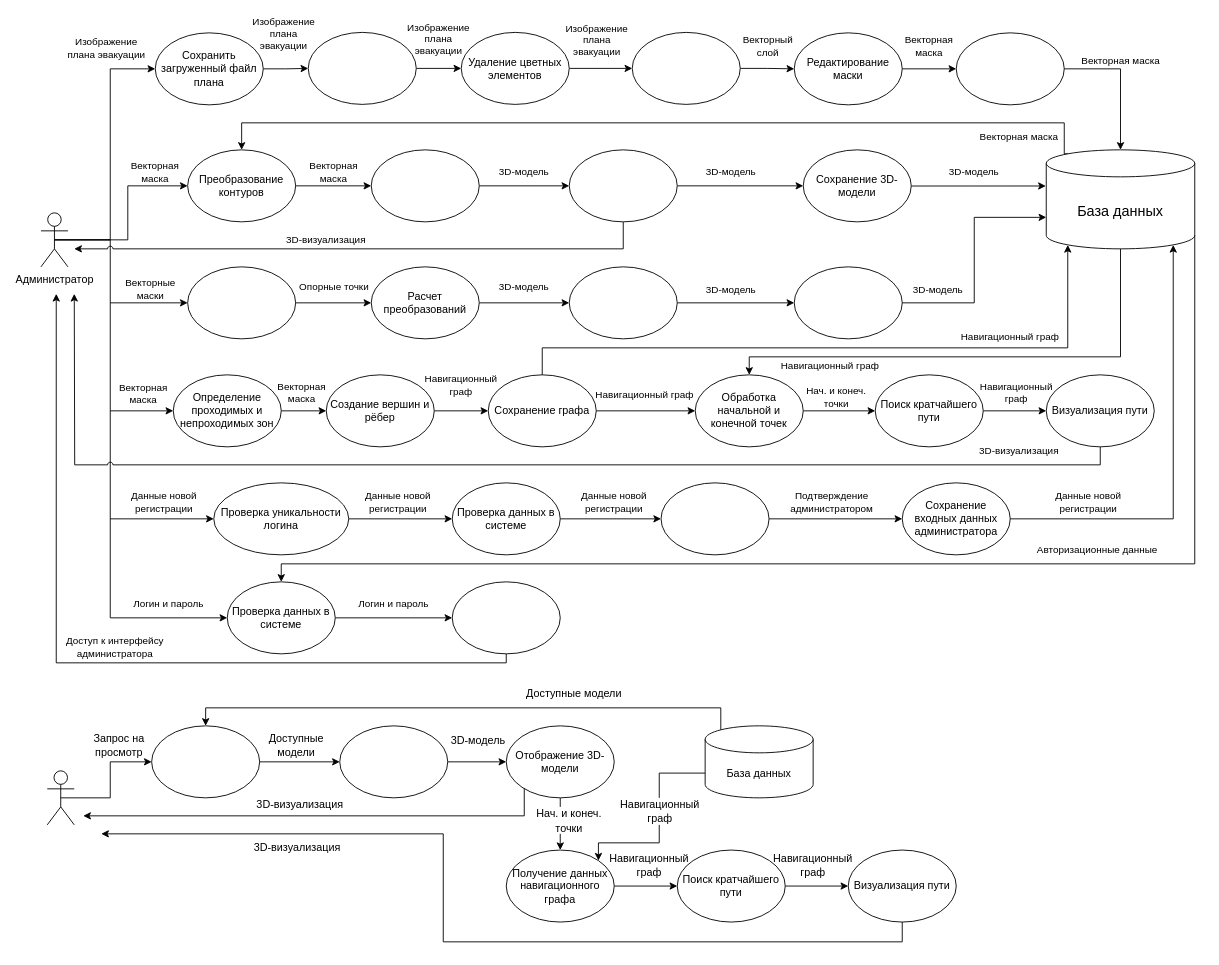
Image size: 1219x965. Some labels were removed from this diagram. The box of each missing label's shape, as (x1, y1, x2, y2) in pixels:
Бинаризация: (631, 32, 740, 104)
Вход в систему: (451, 581, 560, 654)
Загрузка выбранной модели: (339, 725, 448, 798)
Нормализация: (307, 32, 416, 104)
Объединение отсеков: (568, 266, 677, 339)
Получение списка доступных моделей: (151, 725, 260, 798)
Пользователь: (46, 770, 74, 825)
Привязка опорных точек отсека: (187, 266, 296, 339)
Сборка меша: (568, 149, 677, 222)
Создание учетной записи: (660, 482, 769, 555)
Сохранение собранного этажа: (793, 266, 902, 339)
Сохранение финальной маски стен: (955, 32, 1064, 105)
Экструзия: (370, 149, 479, 222)
